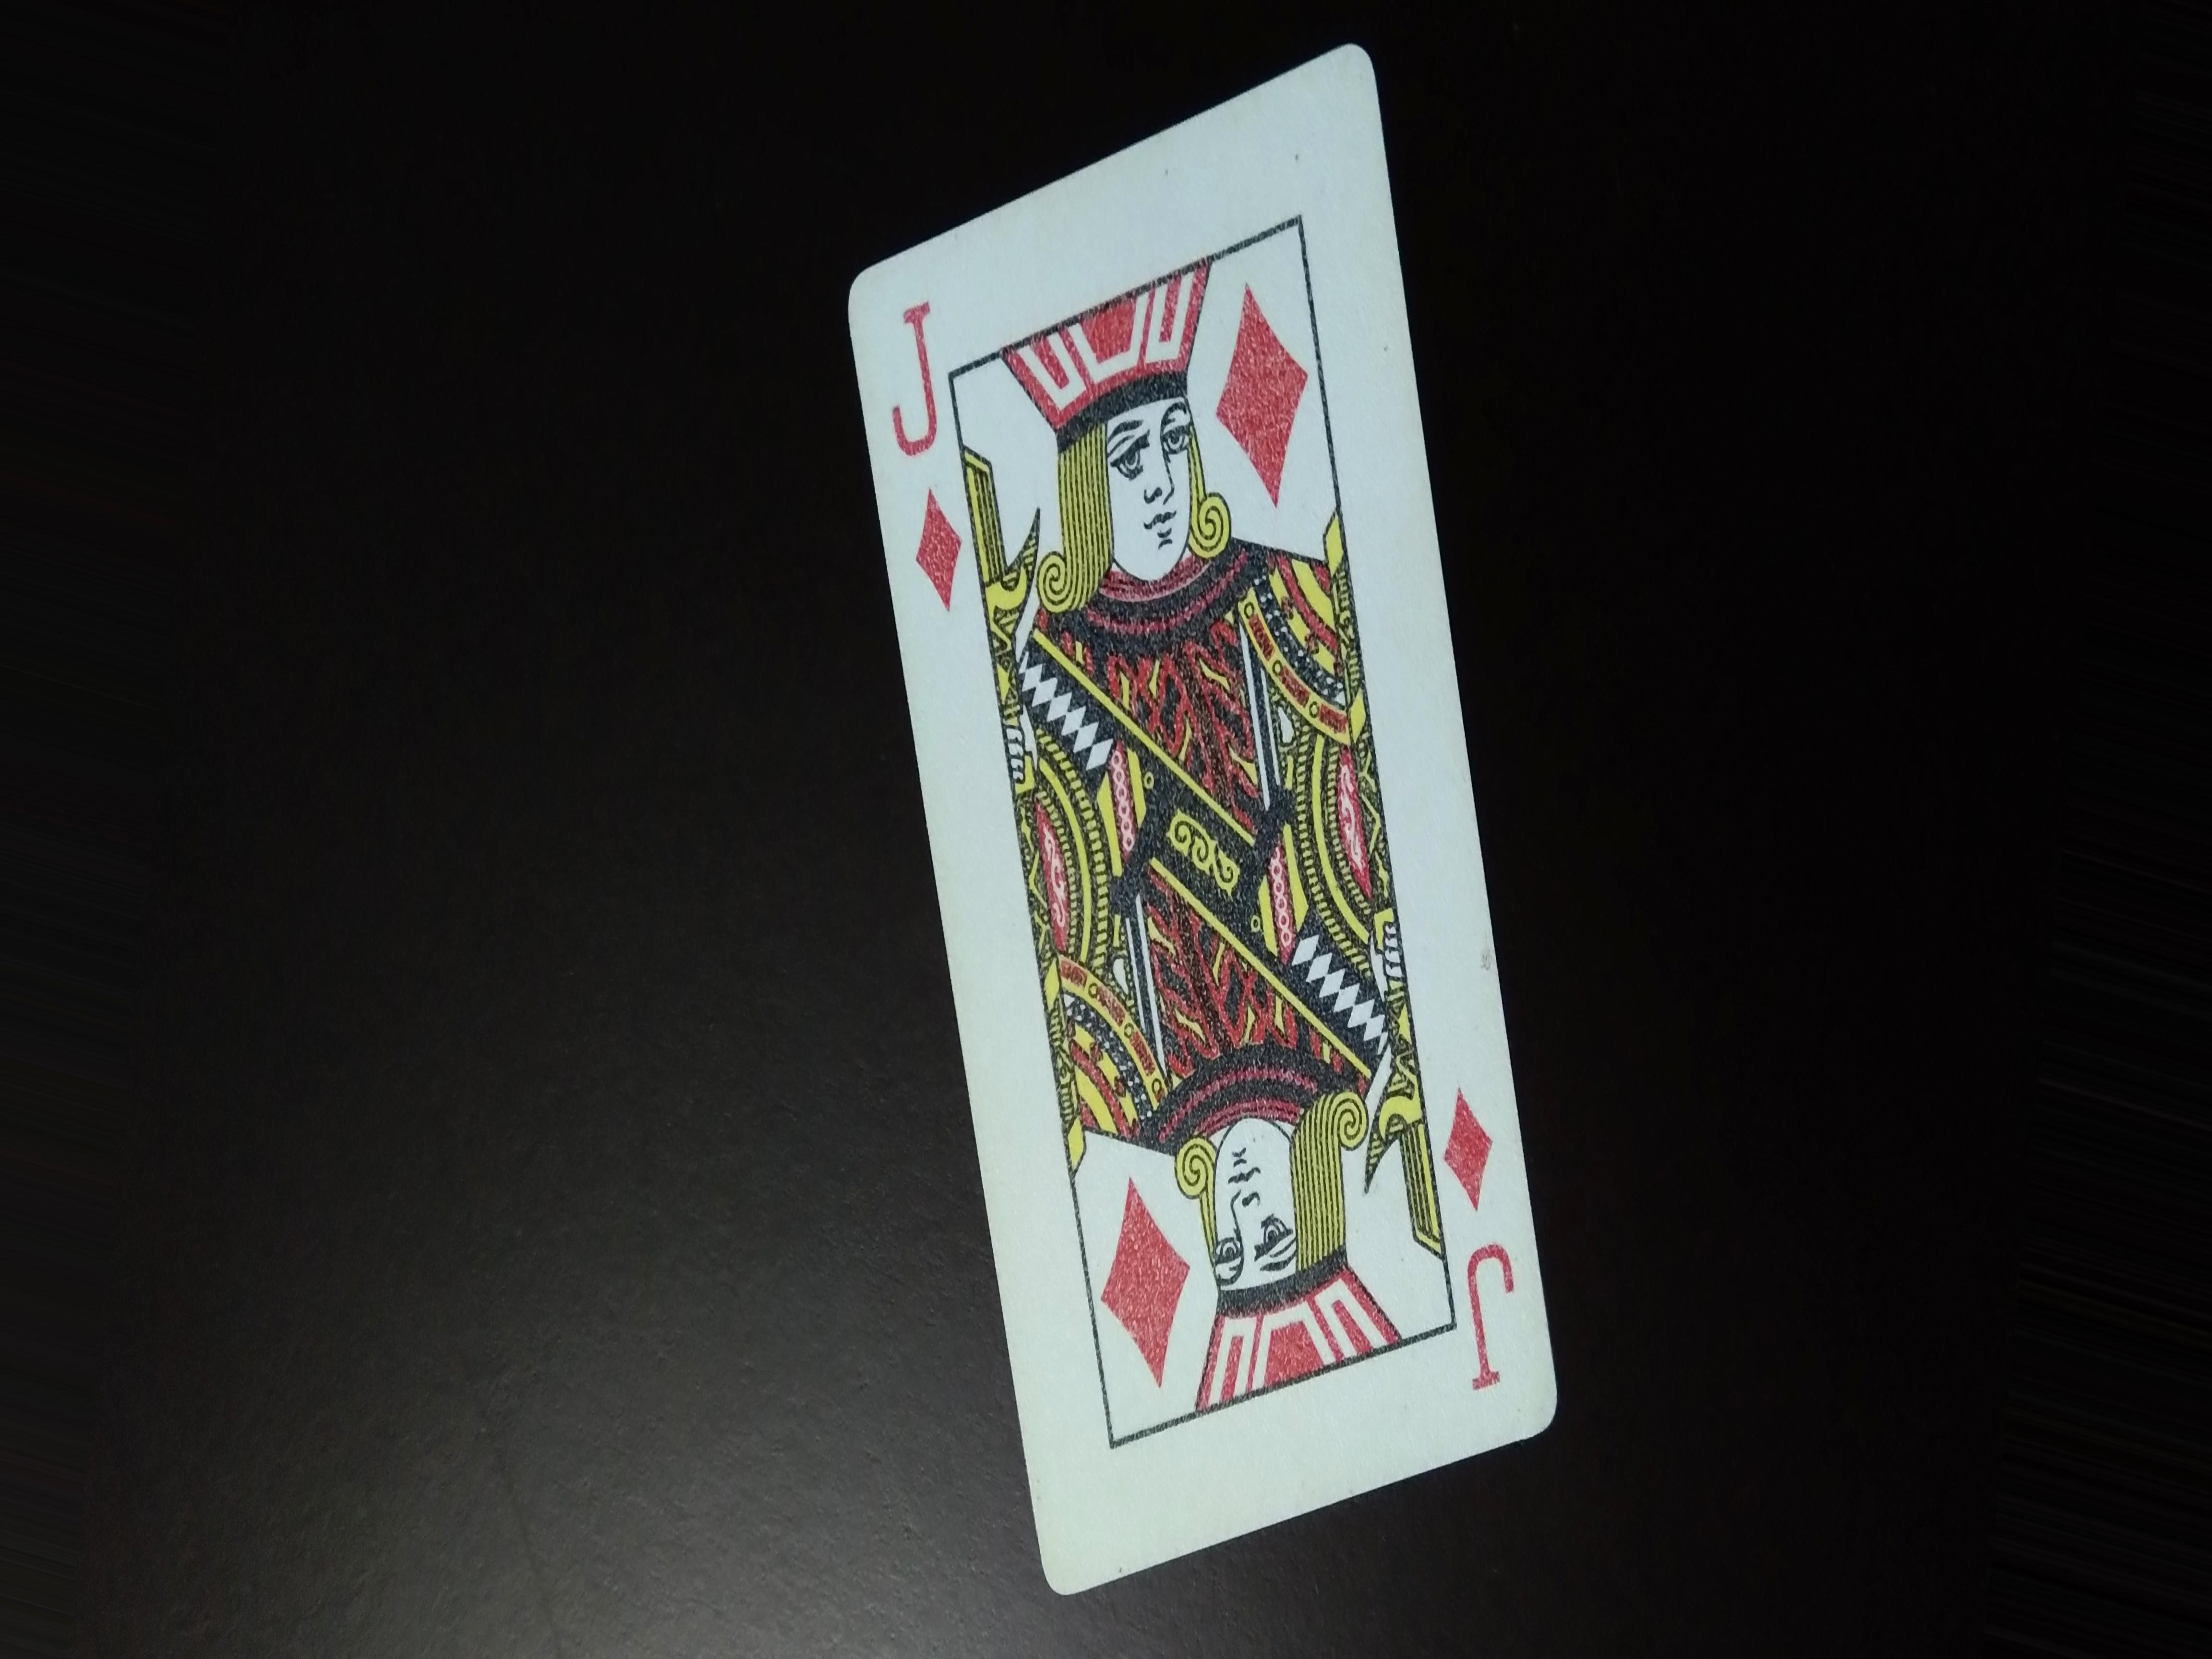JD: (890, 293, 967, 629)
